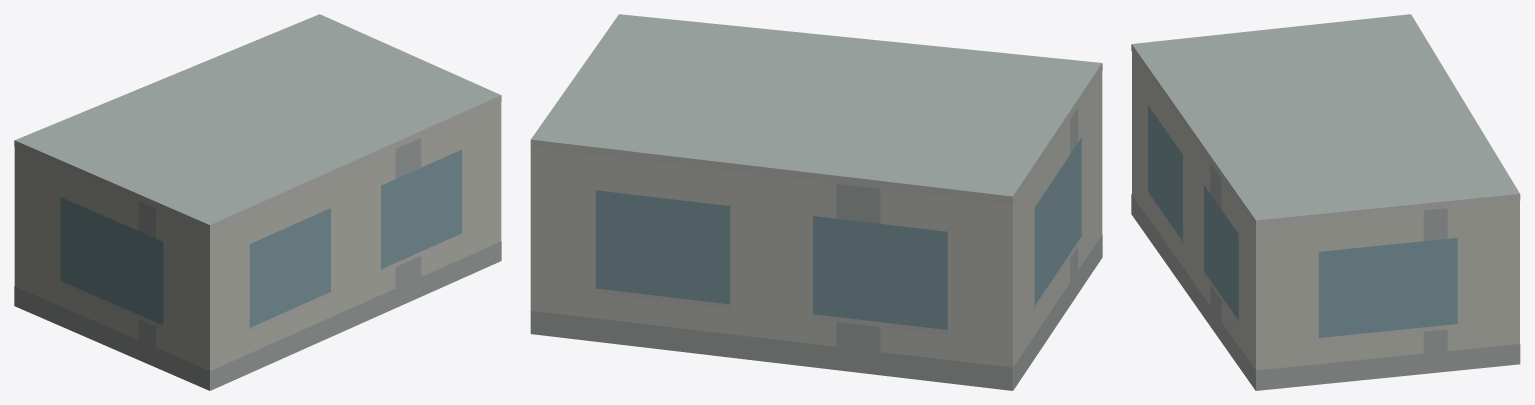
The model's file is residential-3fdde944-2dd1-4aaa-bf57-b3409db7e135.glb.
3 views of the same model, side by side, from view 1: azimuth 30°, elevation 25°; view 2: azimuth 150°, elevation 25°; view 3: azimuth 270°, elevation 25° (orthographic). The views are drawn at different scales.
Visible parts, largest first — view 1: residential-3fdde944-2dd1-4aaa-bf57-b3409db7e135.tmp; view 2: residential-3fdde944-2dd1-4aaa-bf57-b3409db7e135.tmp; view 3: residential-3fdde944-2dd1-4aaa-bf57-b3409db7e135.tmp.
Part boxes in pixels (box(x1,y1,x2,y2)): residential-3fdde944-2dd1-4aaa-bf57-b3409db7e135.tmp: box(14, 14, 501, 390); residential-3fdde944-2dd1-4aaa-bf57-b3409db7e135.tmp: box(530, 14, 1102, 390); residential-3fdde944-2dd1-4aaa-bf57-b3409db7e135.tmp: box(1131, 14, 1520, 390).
Size of the model in its own units: 7.93 by 3.05 by 6.31.
